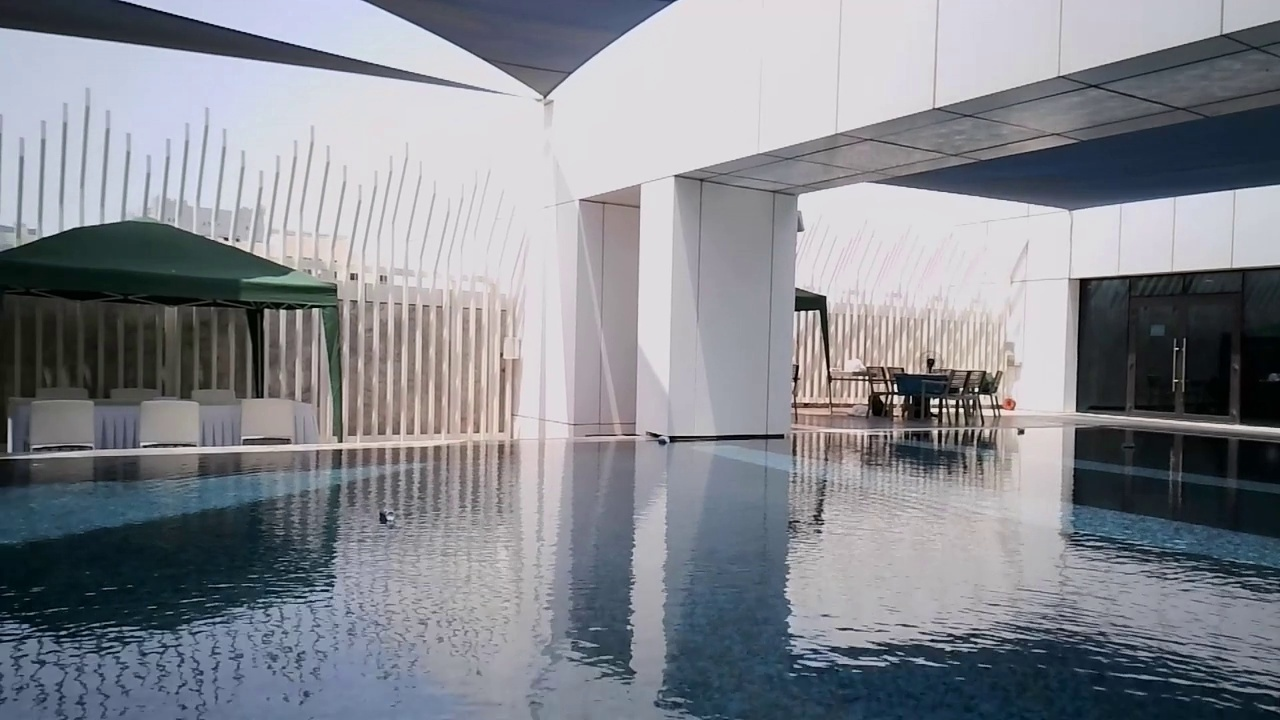debris: (376, 508, 397, 526), (658, 435, 672, 449), (1121, 439, 1136, 451), (1015, 423, 1026, 435)
